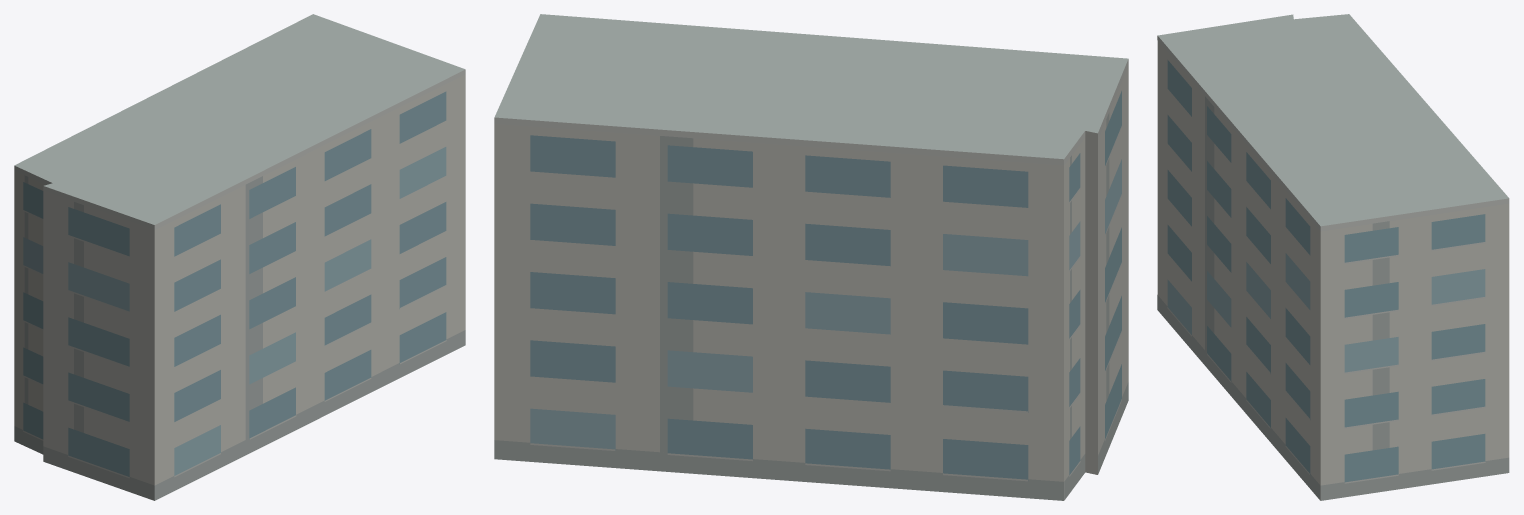
The model's file is survey-upis-32947061.glb.
3 views of the same model, side by side, from view 1: azimuth 30°, elevation 25°; view 2: azimuth 150°, elevation 25°; view 3: azimuth 270°, elevation 25° (orthographic). The views are drawn at different scales.
Visible parts, largest first — view 1: survey-upis-32947061.tmp; view 2: survey-upis-32947061.tmp; view 3: survey-upis-32947061.tmp.
Part boxes in pixels (x1,y1,x2,y2): survey-upis-32947061.tmp: (14, 14, 465, 500); survey-upis-32947061.tmp: (494, 14, 1128, 500); survey-upis-32947061.tmp: (1157, 14, 1509, 500).
Size of the model in its own units: 22.2 by 13.38 by 15.55.
